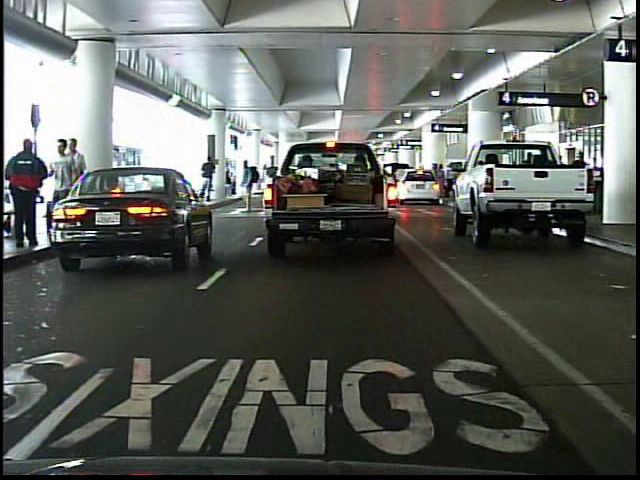person: (6, 135, 50, 255), (50, 137, 74, 238), (67, 133, 90, 236), (235, 158, 259, 213)
